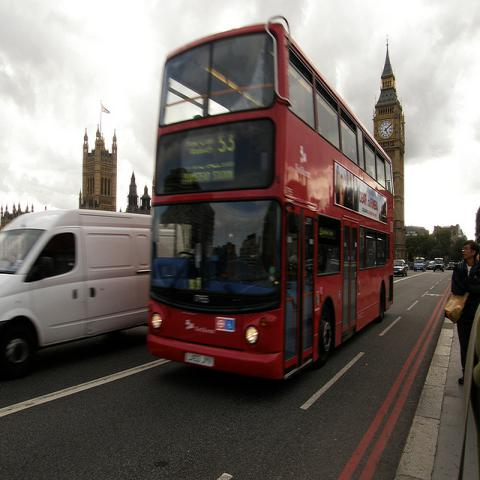bus: (138, 14, 396, 383)
car: (394, 259, 408, 275), (414, 257, 426, 272), (434, 258, 444, 272), (427, 261, 434, 270), (448, 263, 455, 270), (446, 265, 448, 270)
truck: (0, 205, 152, 371), (434, 258, 444, 272)
